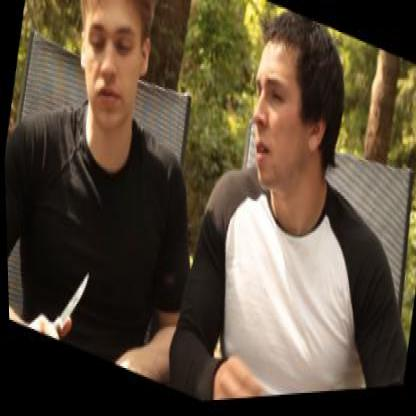knife: (28, 241, 98, 353)
